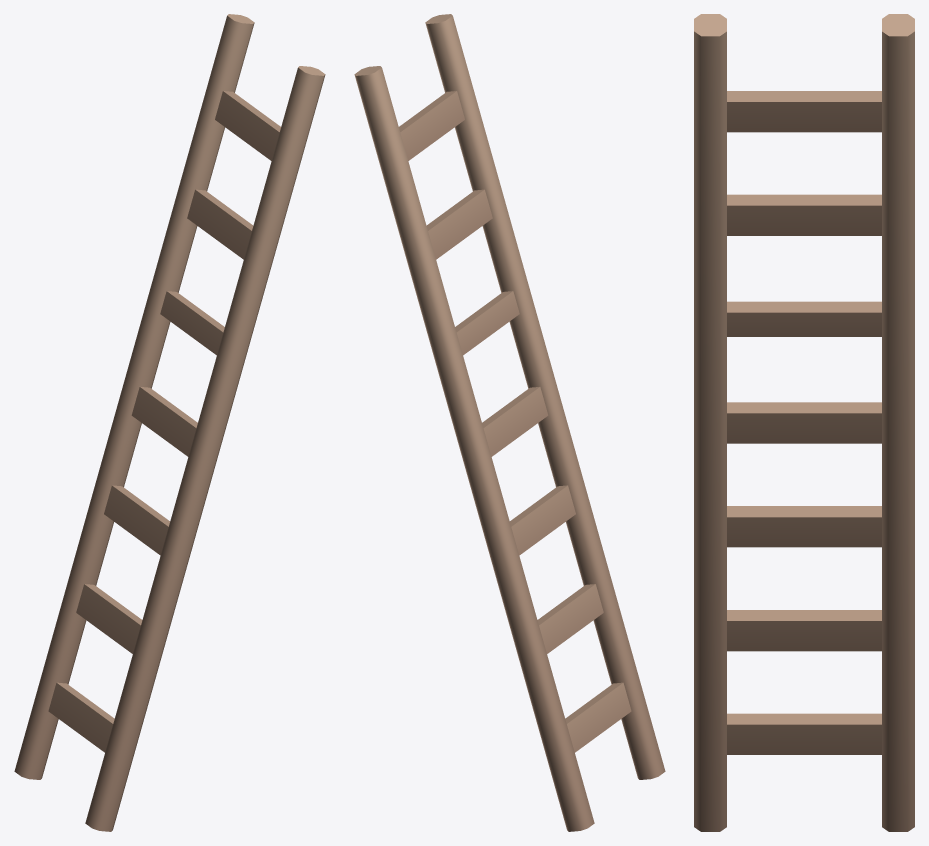
Rendered from ladder-wall.glb.
The picture shows the model from 3 angles, left to right: view 1: azimuth 30°, elevation 25°; view 2: azimuth 150°, elevation 25°; view 3: azimuth 270°, elevation 25°; orthographic projection. The views are drawn at different scales.
Parts seen in each view (by area): view 1: ladder-wall; view 2: ladder-wall; view 3: ladder-wall.
Part boxes in pixels (x1,y1,x2,y2): ladder-wall: (14, 14, 325, 831); ladder-wall: (354, 14, 665, 831); ladder-wall: (694, 14, 914, 831).
Bounding box in the file's own units: 0.76 × 2.21 × 0.47.
